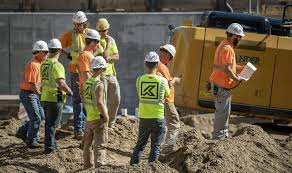helmet: (228, 22, 244, 37), (91, 56, 107, 70), (70, 10, 86, 22), (34, 40, 48, 52), (146, 51, 159, 63), (163, 44, 176, 56), (95, 19, 110, 29), (85, 29, 99, 39), (51, 38, 60, 49)
